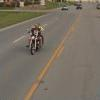Motorcycle: (21, 21, 49, 57)
